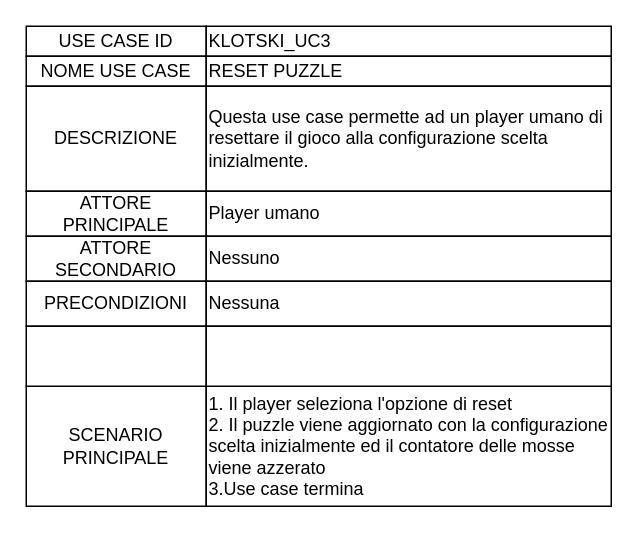
Image size: 638x533. Some labels were removed from this diagram. Here are the shapes that lost their labels. From the top down, the centre of each, then its label:
At pixel 115 355: "POSTCONDIZIONI".
At pixel 408 355: "Aggiornamento configurazione puzzle e reset contatore mosse".
